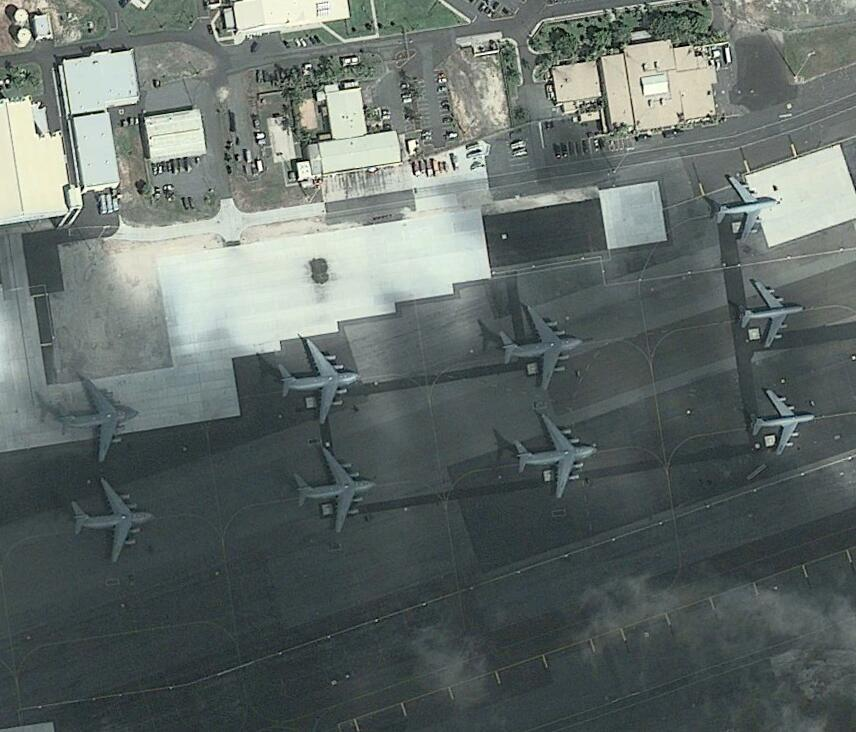A14: (712, 172, 783, 241), (738, 278, 808, 347), (751, 386, 816, 455)
A3: (498, 303, 589, 391), (56, 373, 140, 465), (68, 478, 157, 564), (278, 338, 362, 426), (292, 447, 378, 530), (513, 413, 598, 496)
